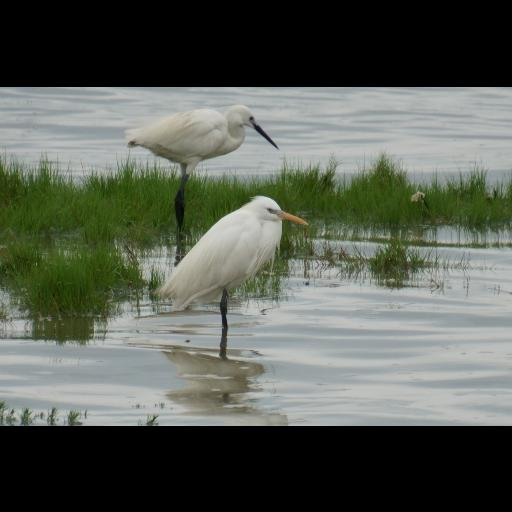chinese_egret: (152, 195, 310, 327)
